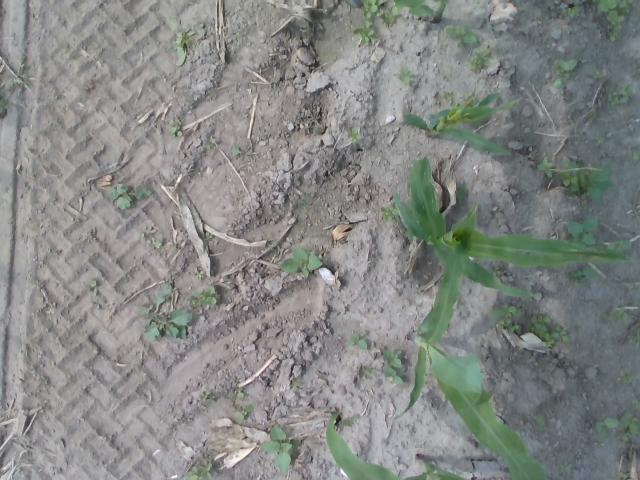Maize: (395, 156, 636, 417), (400, 248, 550, 480), (322, 409, 470, 480), (401, 88, 515, 156), (388, 0, 446, 23)
Weeds: (134, 283, 190, 340), (556, 154, 614, 200), (259, 425, 300, 473), (591, 0, 632, 43), (166, 15, 201, 65), (525, 314, 570, 350), (280, 246, 322, 280), (103, 182, 154, 210), (353, 0, 386, 43), (562, 215, 598, 249), (381, 348, 406, 386), (444, 25, 482, 49), (551, 59, 578, 90), (566, 265, 602, 285), (606, 82, 634, 106), (181, 460, 213, 480), (619, 411, 640, 440), (187, 286, 217, 306), (593, 416, 616, 442), (491, 301, 523, 318), (468, 48, 492, 70), (348, 330, 370, 351), (140, 230, 163, 250), (602, 306, 629, 322), (534, 156, 554, 177), (392, 67, 414, 86), (380, 202, 400, 222), (604, 239, 634, 251), (441, 90, 459, 110), (496, 318, 518, 334), (234, 404, 252, 422), (346, 126, 364, 144), (383, 6, 399, 26), (167, 119, 183, 138), (455, 180, 469, 201), (338, 414, 358, 428), (560, 5, 580, 18), (361, 366, 376, 382), (227, 390, 246, 401), (462, 93, 478, 106), (536, 414, 548, 431), (616, 471, 638, 480), (200, 391, 216, 403), (89, 278, 98, 298), (627, 334, 640, 345), (622, 374, 636, 384), (404, 229, 414, 242), (490, 266, 502, 276), (290, 380, 303, 389), (0, 98, 8, 112), (204, 139, 215, 149), (193, 270, 204, 280), (560, 464, 570, 473), (631, 151, 640, 161), (592, 70, 602, 79), (205, 232, 214, 241), (597, 137, 605, 147), (299, 199, 307, 208), (231, 146, 239, 154), (398, 222, 406, 228)
